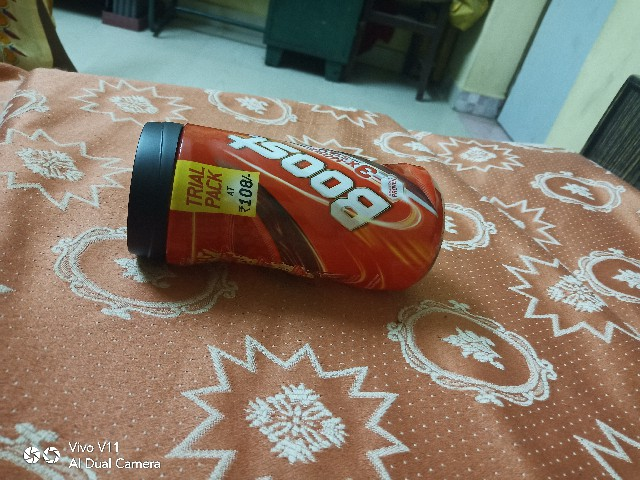boost small: (79, 94, 468, 338)
